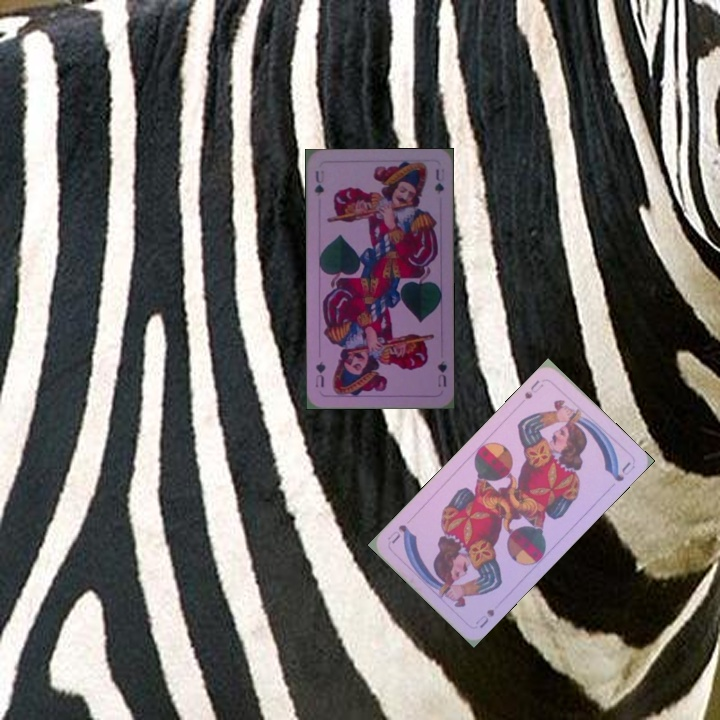GU: (433, 357, 450, 389), (310, 166, 327, 198)
SU: (471, 605, 497, 631), (520, 376, 546, 402)
